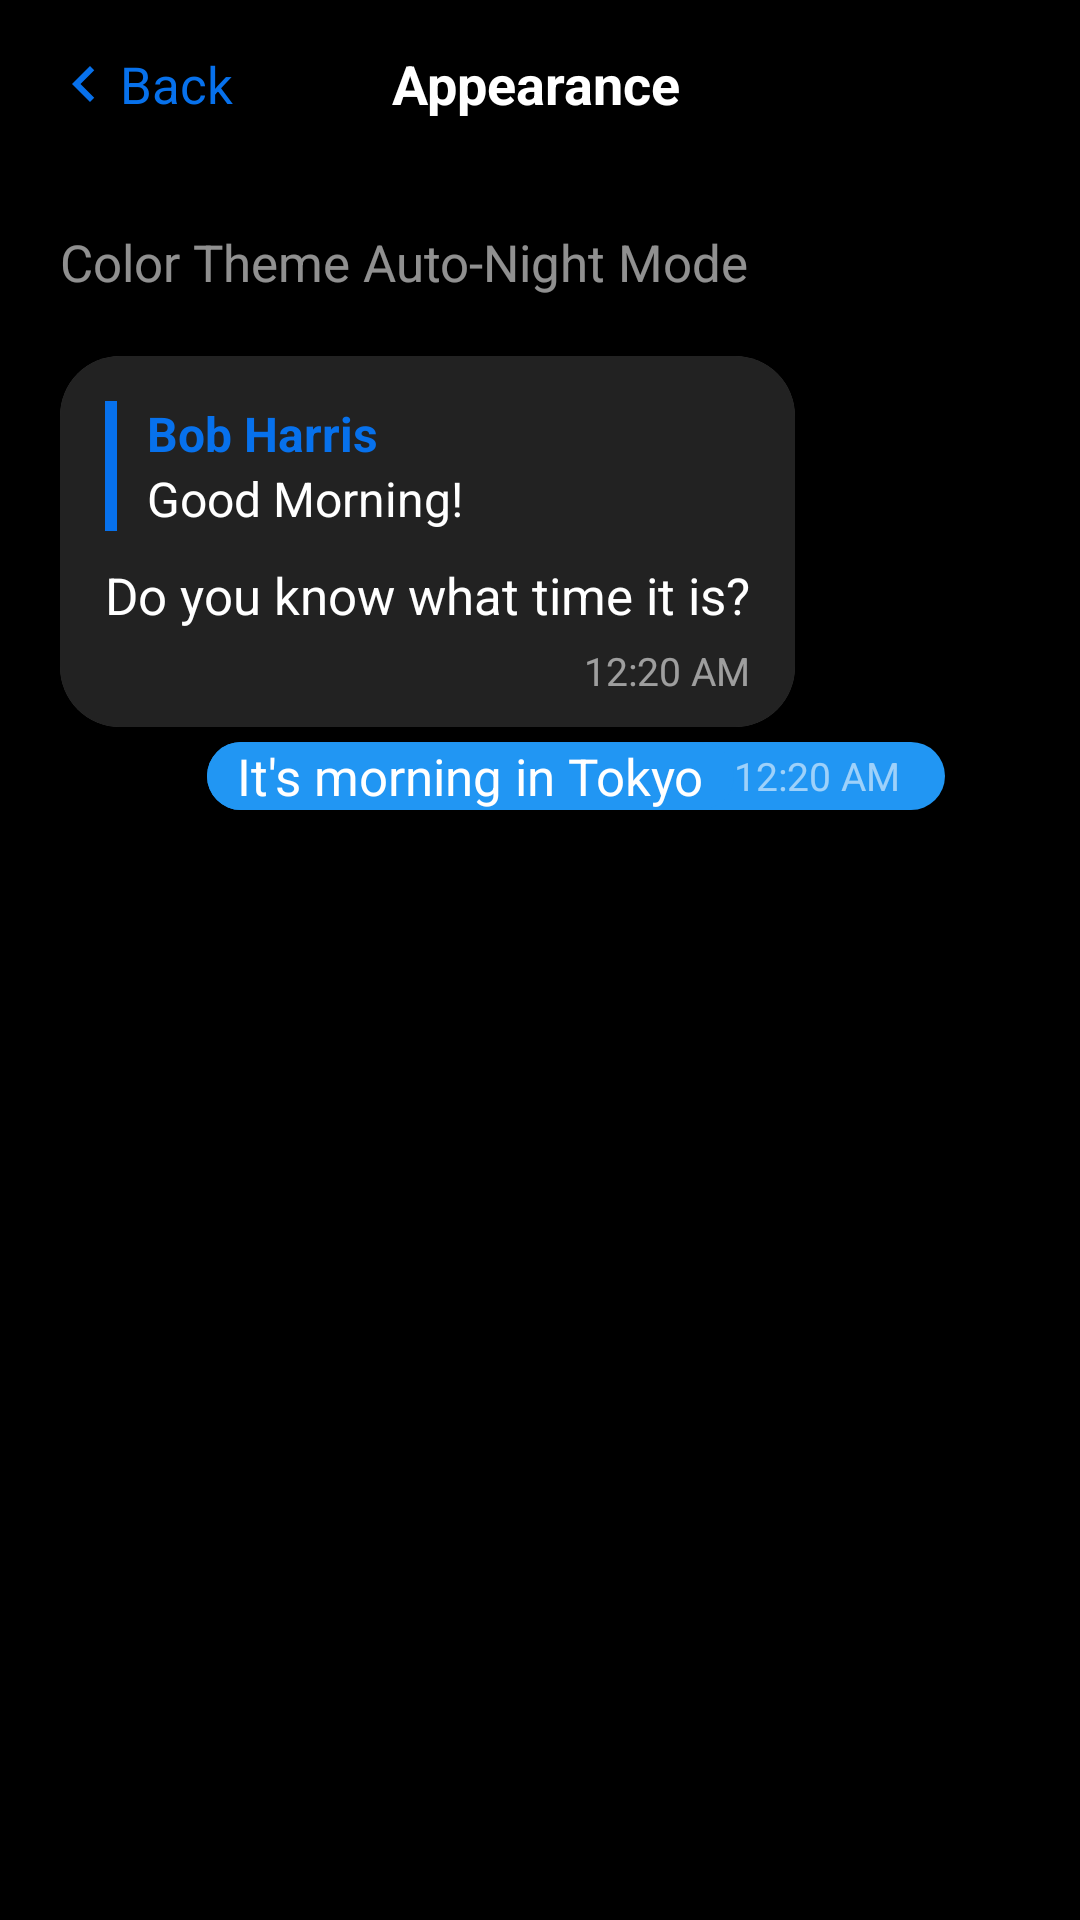

Icons on this 1080*1920 Android screen, each with its box as (x1, y1, x2, y2):
left: (72, 66, 94, 102)
